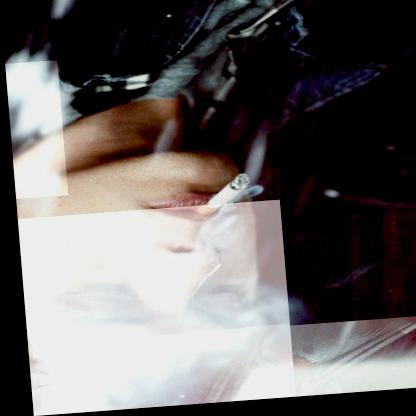smoke: (14, 204, 289, 416), (4, 61, 65, 199)
